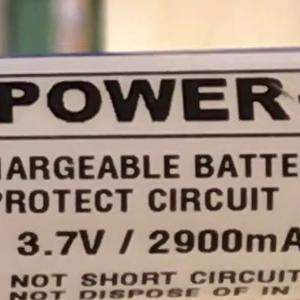3.7V: (7, 219, 115, 266)
